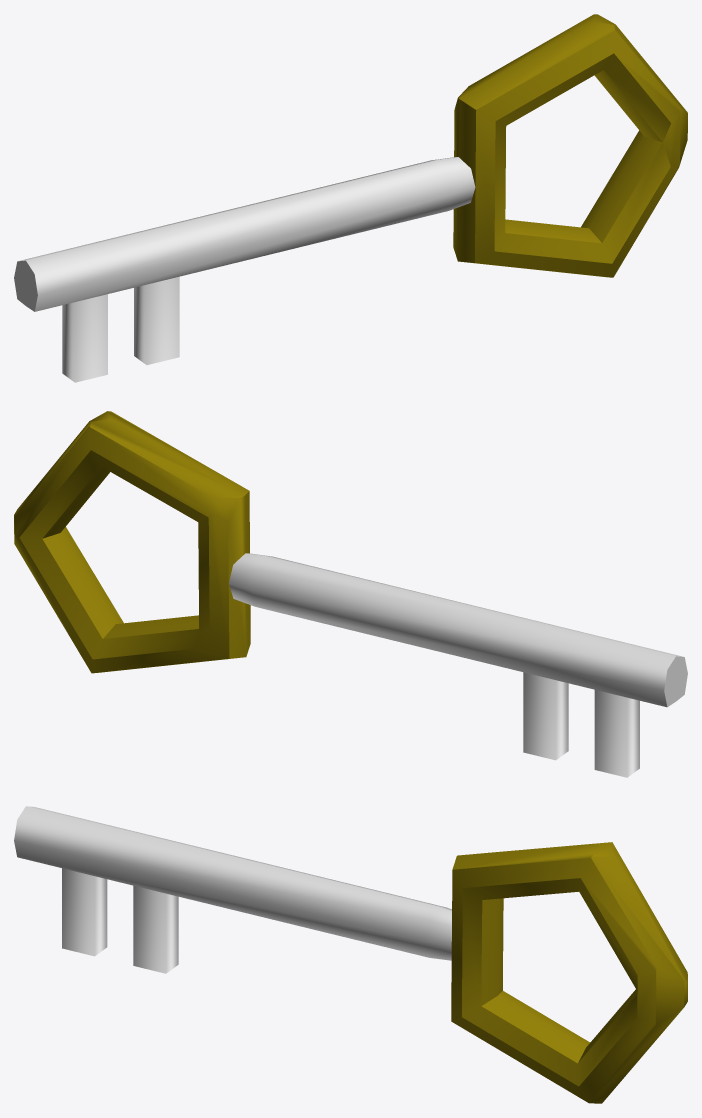
Rendered from Key.fbx.
The picture shows the model from 3 angles, top to bottom: view 1: azimuth 30°, elevation 25°; view 2: azimuth 150°, elevation 25°; view 3: azimuth 330°, elevation 25°; orthographic projection.
Visible parts, largest first — view 1: Key_3, Key, Key_2, Key_1; view 2: Key_3, Key, Key_1, Key_2; view 3: Key_3, Key, Key_2, Key_1.
Boxes of the visible parts, x1,y1,x2,y2 form: Key_3: (453,14,687,277); Key: (14,157,475,311); Key_2: (134,276,179,364); Key_1: (62,294,107,382); Key_3: (14,411,250,673); Key: (229,553,687,707); Key_1: (594,690,639,777); Key_2: (523,672,568,760); Key_3: (451,842,687,1103); Key: (14,806,451,960); Key_2: (133,885,178,973); Key_1: (62,868,107,956).
Bounding box in the file's own units: 2.92 × 0.2324 × 1.09.
